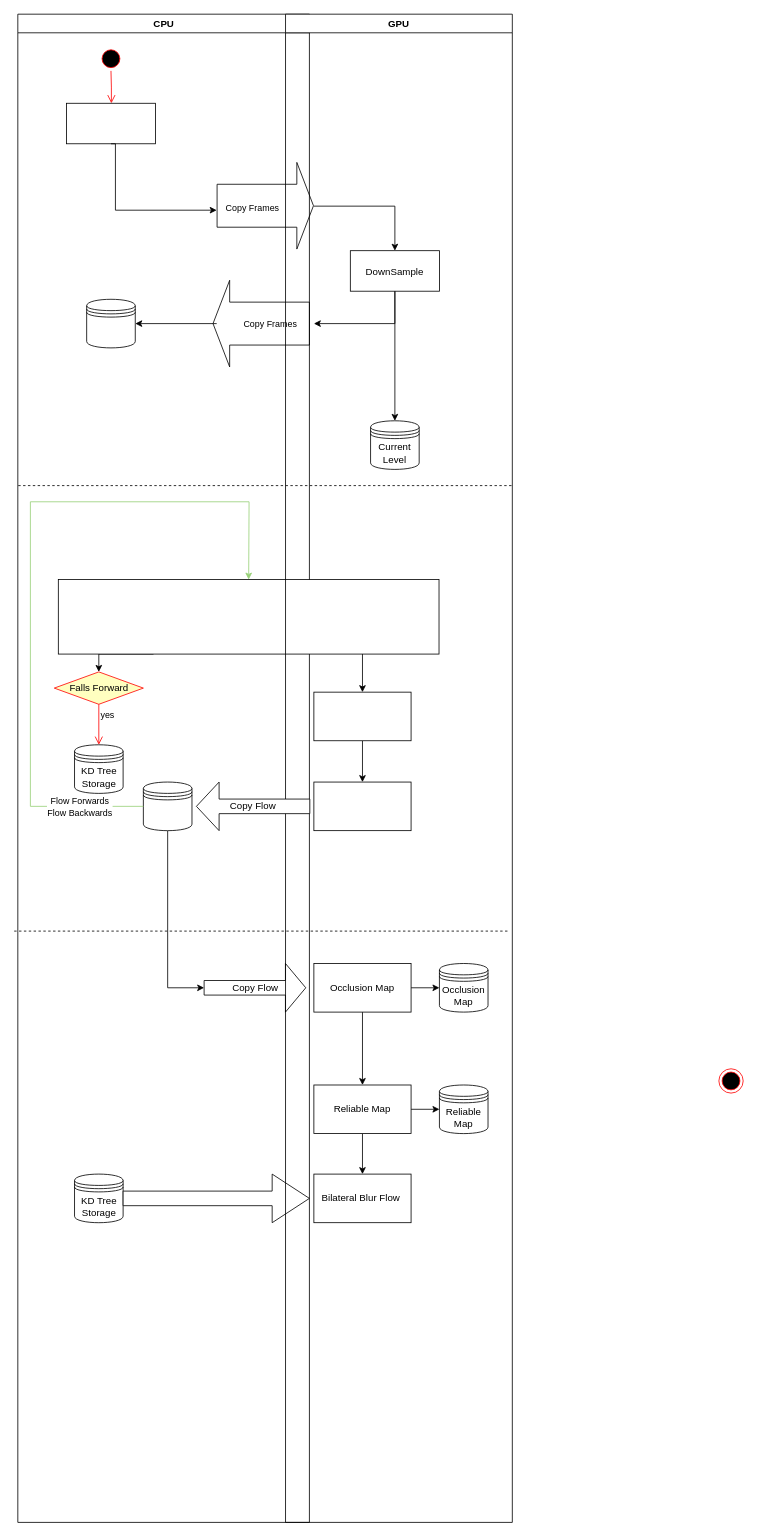
The diagram is 757 pixels wide and 1537 high, and some of its shapes have lost their labels. Here are the shapes that lost their labels. From the top down, the centre of each, then its label:
At [111,123]: "Read Frames".
At [110,323]: "Levels Storage".
At [248,616]: "Build KD Tree".
At [362,716]: "Gradient".
At [167,806]: "Flow".
At [362,806]: "Optical Flow".
At [215,1198]: "Copy Tree".
